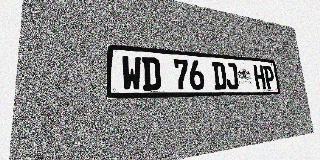6: (188, 60, 205, 90)
7: (173, 59, 190, 90)
D: (142, 57, 161, 91), (212, 62, 227, 90)
H: (253, 65, 266, 89)
J: (225, 62, 239, 90)
P: (263, 65, 275, 89)
W: (122, 55, 142, 91)
